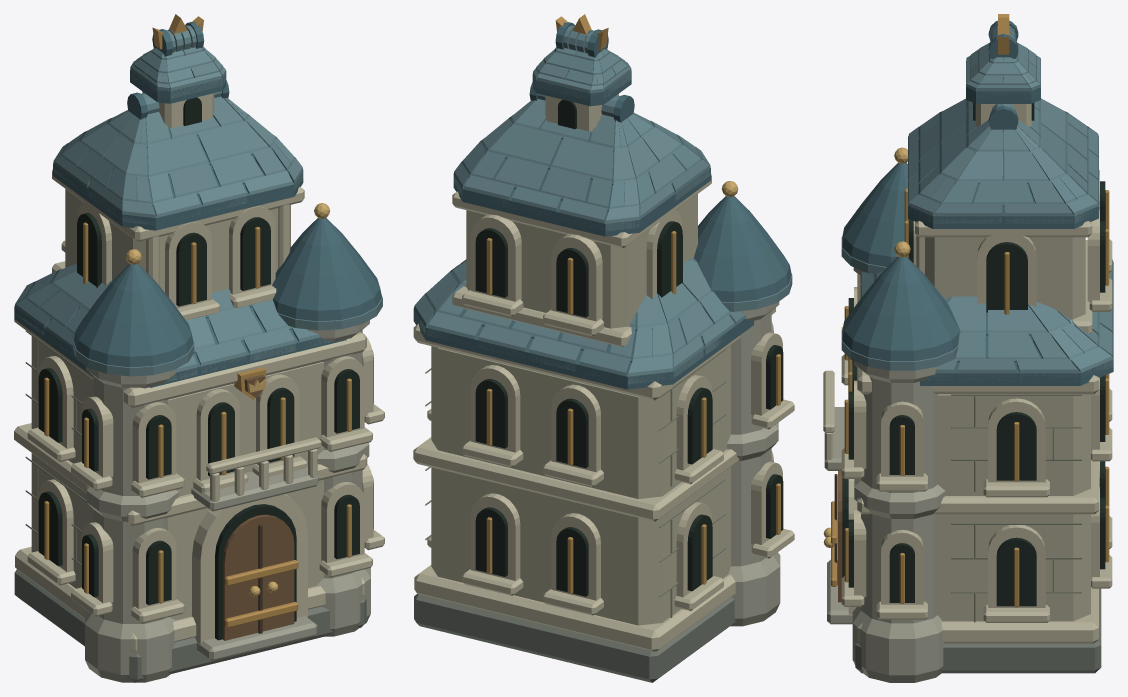
The model's file is house_4.glb.
3 renders of one model, left to right at view 1: azimuth 30°, elevation 25°; view 2: azimuth 150°, elevation 25°; view 3: azimuth 270°, elevation 25°, orthographic. The views are drawn at different scales.
Visible parts, largest first — view 1: Stone, Roof, Metal, Timber; view 2: Stone, Roof, Metal; view 3: Stone, Roof, Metal, Timber.
Boxes of the visible parts, <box> form: Stone: <box>14,91,384,682</box>; Roof: <box>14,22,382,387</box>; Metal: <box>44,14,351,627</box>; Timber: <box>222,374,294,640</box>; Stone: <box>413,94,794,682</box>; Roof: <box>413,22,792,389</box>; Metal: <box>486,14,780,593</box>; Stone: <box>823,103,1112,682</box>; Roof: <box>841,20,1113,385</box>; Metal: <box>823,14,1109,607</box>; Timber: <box>834,471,842,602</box>.
Size of the model in its own units: 3.23 by 6.22 by 2.73.
